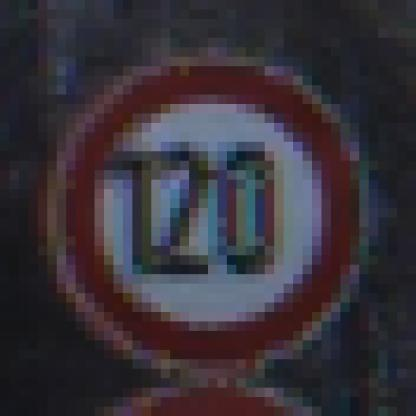Speed Limit 120: (55, 64, 360, 368)
